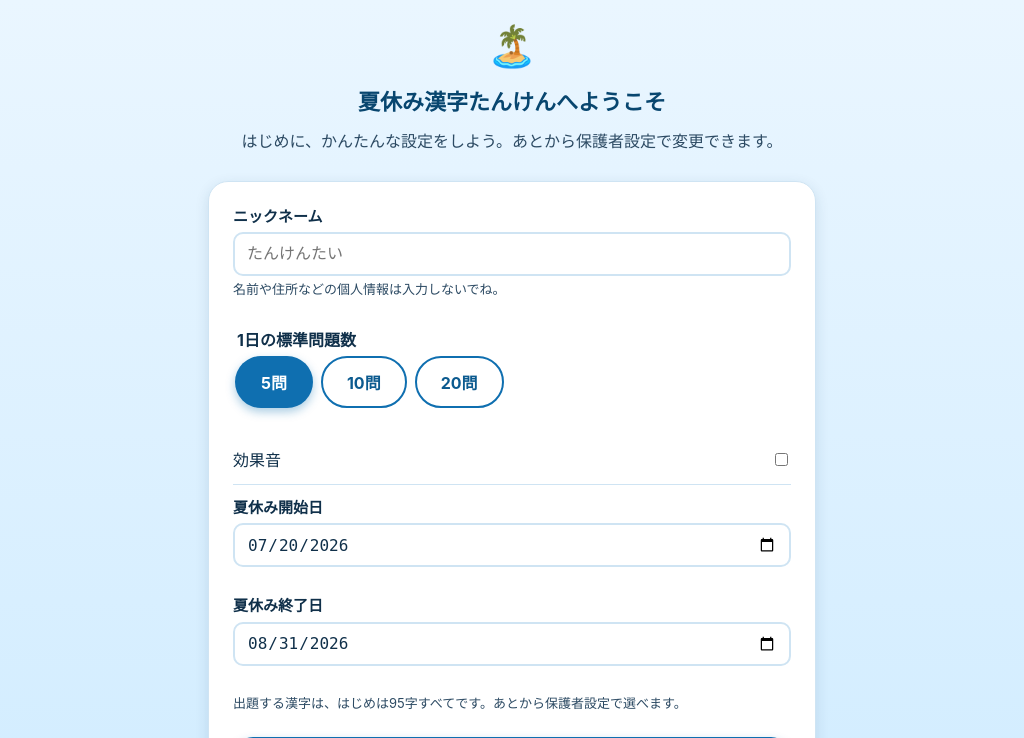
App › allows changing settings from the parent screen
Expected: the heading "夏休み漢字たんけんへようこそ" is shown, [358,88,666,117]
Type "たろう" into the field labelled "ニックネーム" at (512, 254), box [233,232,791,276]
(page scrolled)
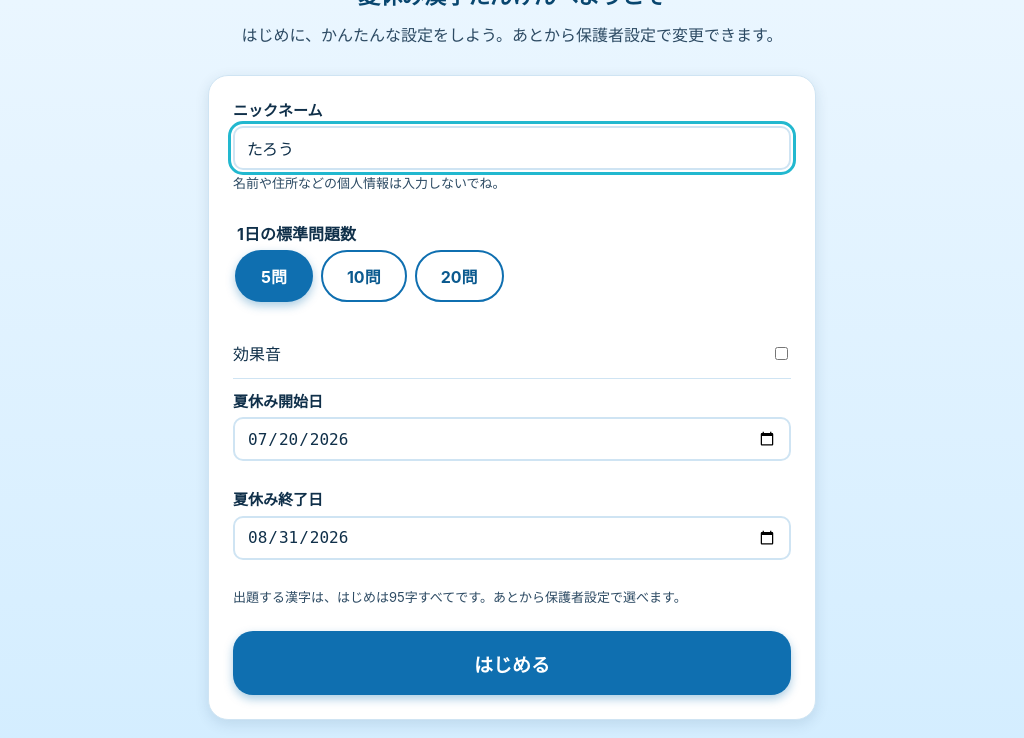
Click the button "はじめる" at (512, 663), box [233,631,791,695]
(page scrolled)
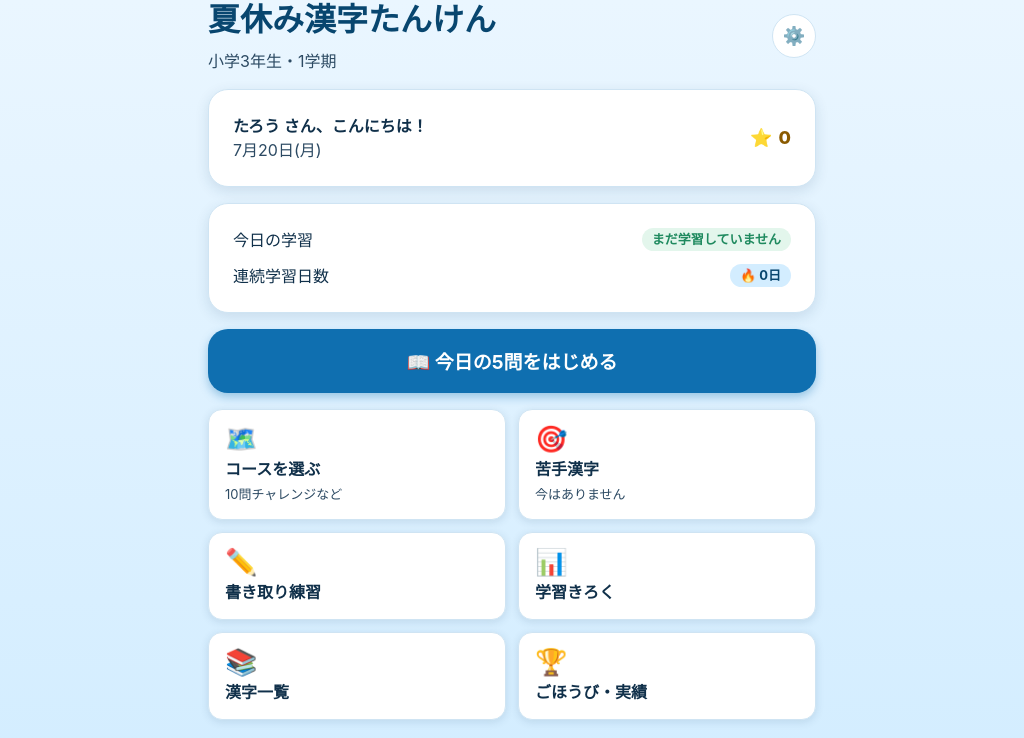
Expected: the heading "夏休み漢字たんけん" is shown, [208,0,496,41]
Click the button named "保護者設定を開く" at (794, 36), box [772,14,816,58]
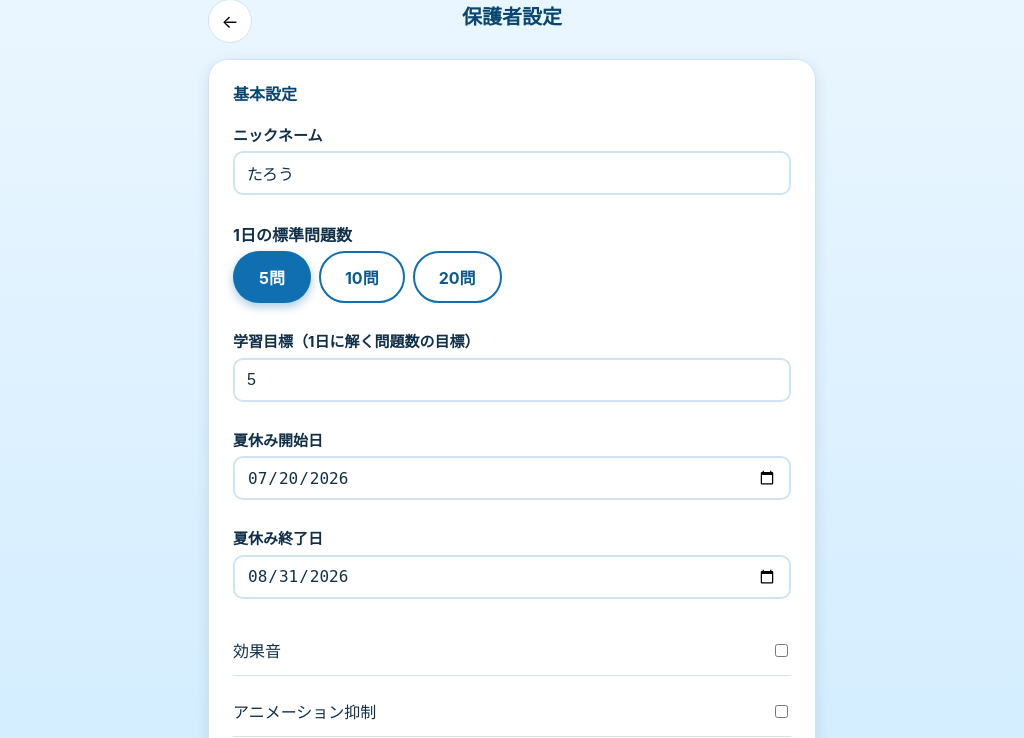
Result: the heading "保護者設定" is shown at [462,4,562,30]
Replace the text in the field labelled "ニックネーム" with "はなこ" at (512, 173), box [233,151,791,195]
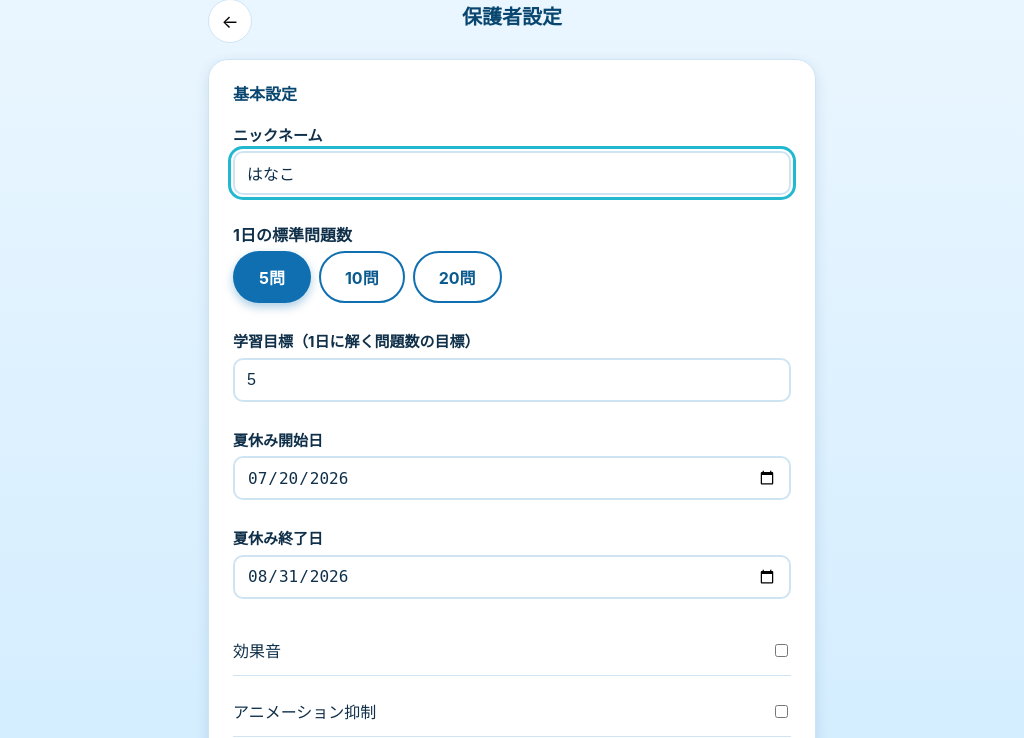
Click the button named "戻る" at (230, 21), box [208,0,252,43]
(page scrolled)
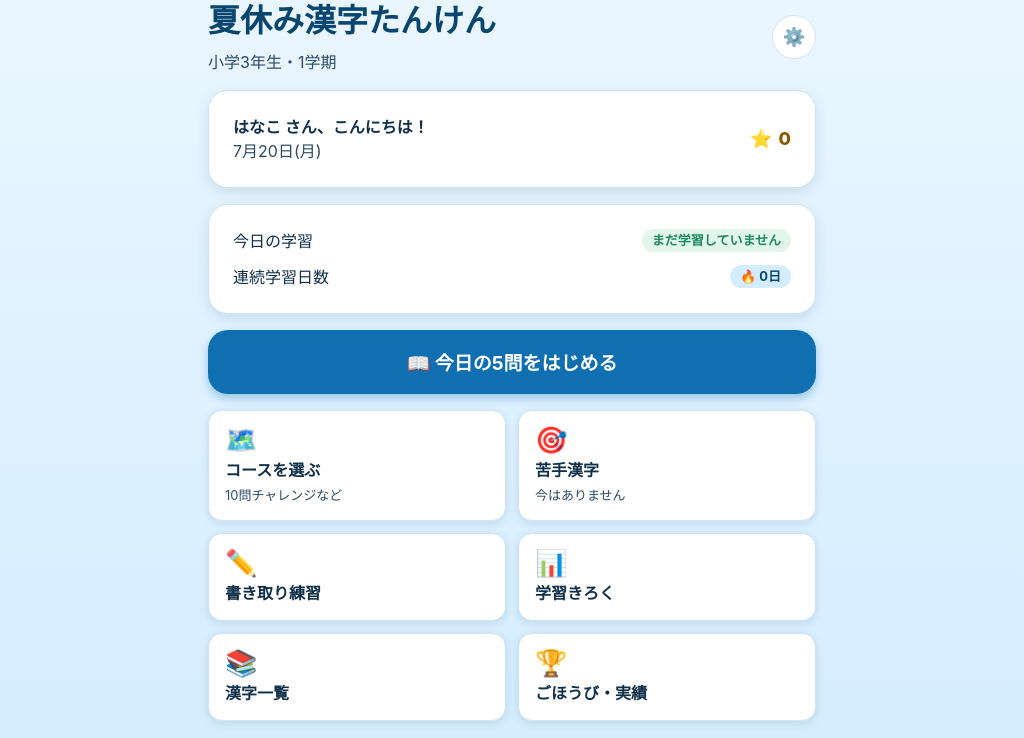
Result: the text "はなこ さん、こんにちは！" is shown at [233,115,429,139]
